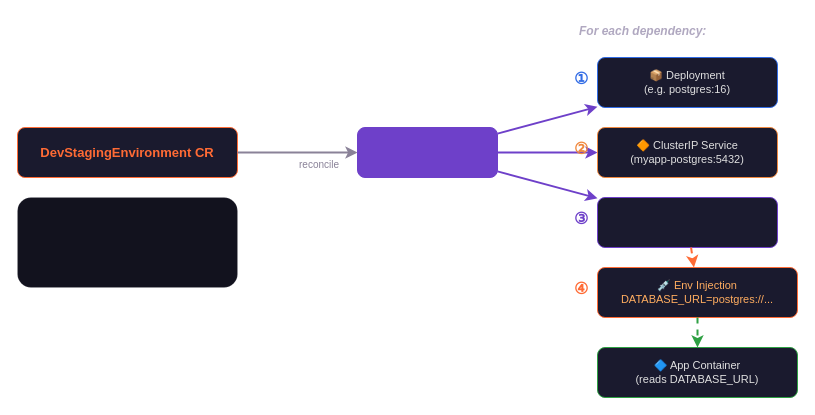
The diagram is 815 pixels wide and 415 high, and some of its shapes have lost their labels. The centre of each missing label's shape, as x and y in pixels:
dependencies: - type: postgres version: "16" - type: redis - type: rabbitmq: pixel 127 242
🎛️ Operator: pixel 427 152
🔐 Secret (myapp-postgres-creds): pixel 687 222
